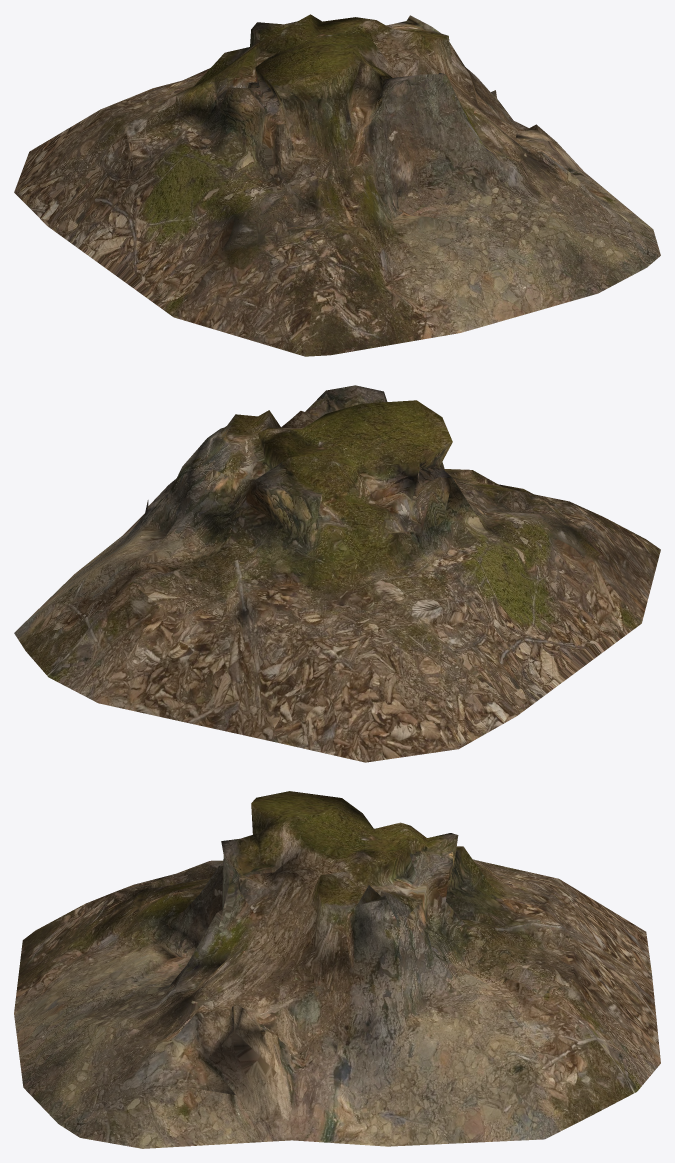
File: log.glb
3 views of the same model, one above another, from view 1: azimuth 30°, elevation 25°; view 2: azimuth 150°, elevation 25°; view 3: azimuth 270°, elevation 25° (orthographic). The views are drawn at different scales.
Visible parts, largest first — view 1: tree_stump_01; view 2: tree_stump_01; view 3: tree_stump_01.
Boxes of the visible parts, x1,y1,x2,y2 form: tree_stump_01: [14, 14, 660, 356]; tree_stump_01: [14, 385, 660, 762]; tree_stump_01: [14, 791, 660, 1148].
Bounding box in the file's own units: 1.42 × 0.562 × 1.59.
Materials: 1 (1 with a texture image).
